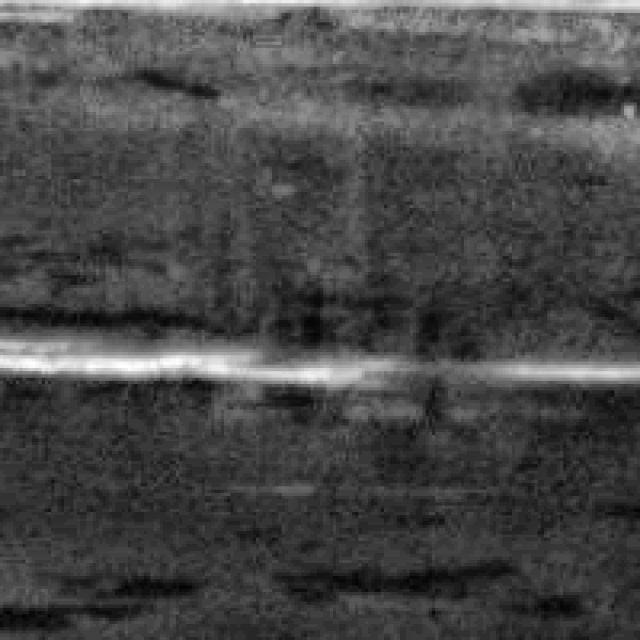Inclusion: (0, 316, 390, 393), (481, 342, 634, 393)
